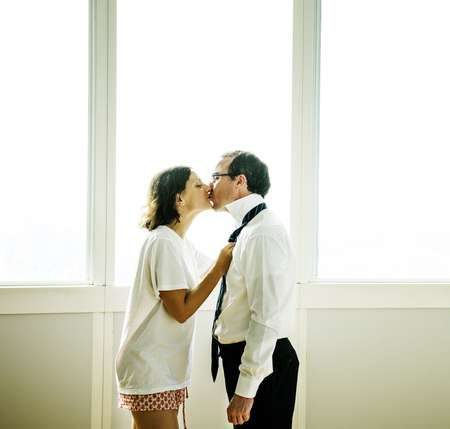F_shirt: (206, 195, 294, 399)
